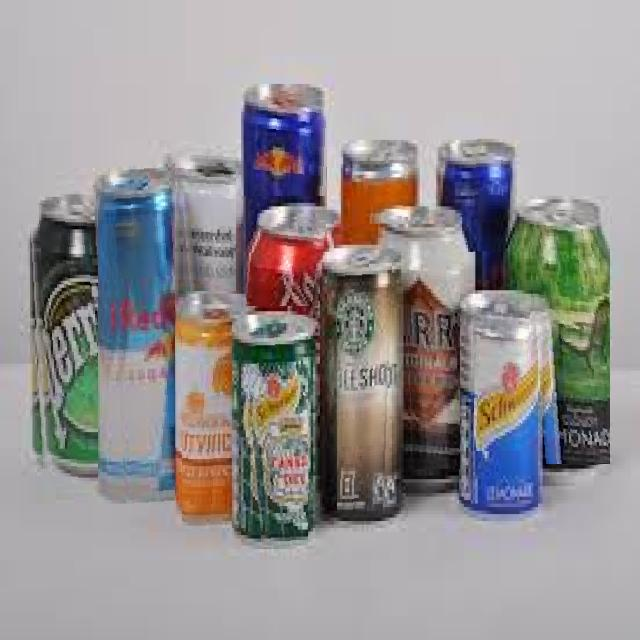Cans: (105, 153, 175, 511), (28, 175, 98, 484), (527, 208, 610, 464), (243, 317, 308, 547), (338, 250, 393, 514), (403, 245, 460, 469), (170, 108, 236, 291), (182, 306, 226, 529), (244, 90, 330, 196), (474, 304, 530, 452), (246, 214, 326, 306), (455, 120, 505, 252), (352, 142, 408, 224)
